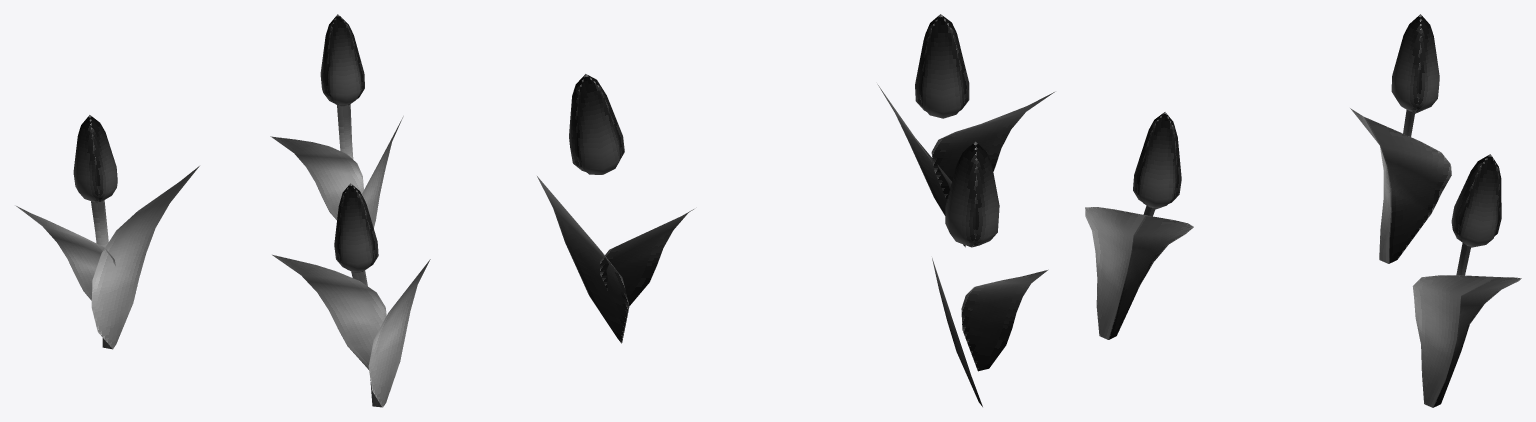
Rendered from PltFlwTulip0.glb.
3 renders of one model, left to right at view 1: azimuth 30°, elevation 25°; view 2: azimuth 150°, elevation 25°; view 3: azimuth 270°, elevation 25°, orthographic. The views are drawn at different scales.
Parts seen in each view (by area): view 1: Av8_Leaf_L_1__mFlowerBodyTulip, Tsubomi_1__mFlowerTulip; view 2: Av8_Leaf_L_1__mFlowerBodyTulip, Tsubomi_1__mFlowerTulip; view 3: Av8_Leaf_L_1__mFlowerBodyTulip, Tsubomi_1__mFlowerTulip.
Boxes of the visible parts, x1,y1,x2,y2 form: Av8_Leaf_L_1__mFlowerBodyTulip: [15, 104, 430, 407]; Tsubomi_1__mFlowerTulip: [73, 14, 378, 272]; Av8_Leaf_L_1__mFlowerBodyTulip: [537, 84, 1055, 406]; Tsubomi_1__mFlowerTulip: [569, 14, 999, 247]; Av8_Leaf_L_1__mFlowerBodyTulip: [1085, 108, 1521, 407]; Tsubomi_1__mFlowerTulip: [1133, 14, 1501, 247].
Size of the model in its own units: 9.72 by 5.03 by 7.86.
2 materials, 2 textured.
